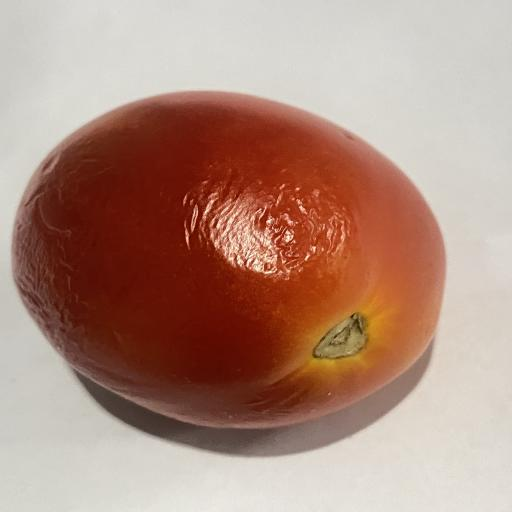spoiled: (12, 91, 445, 428)
